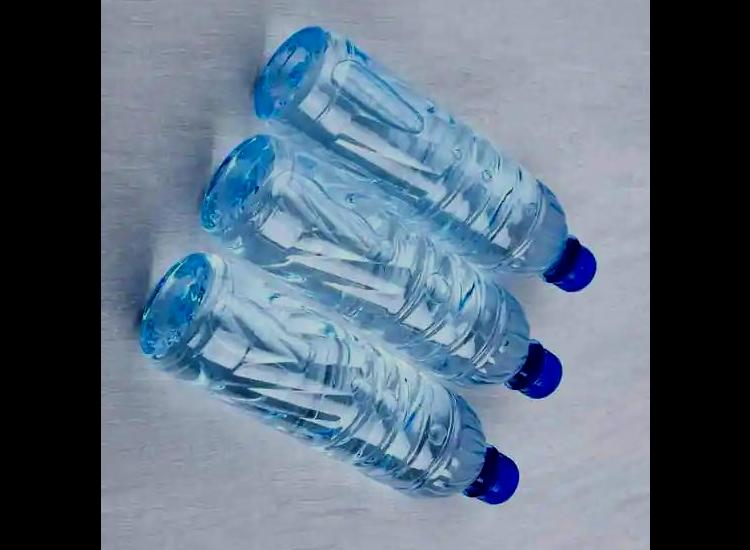bottle: (123, 243, 538, 527), (242, 6, 605, 297), (206, 161, 566, 408)
